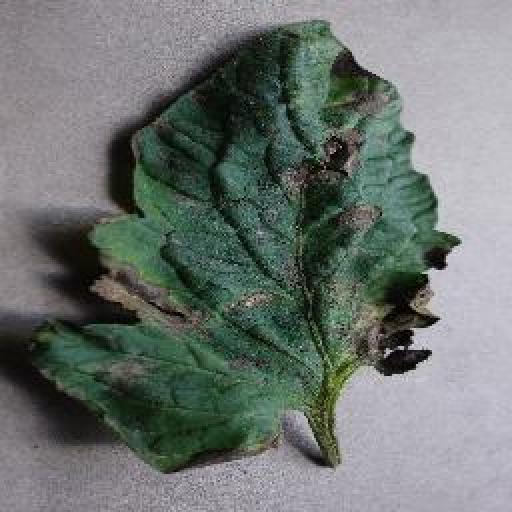Early Blight: (22, 19, 457, 473)
